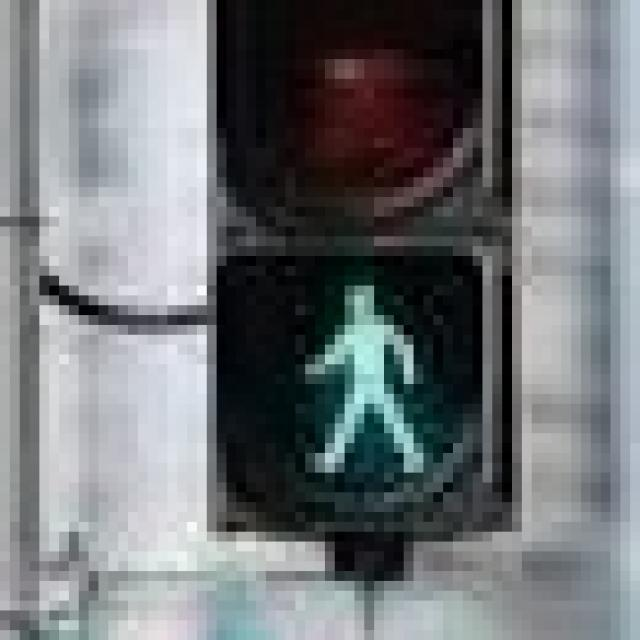geen-crossing: (236, 256, 453, 492)
